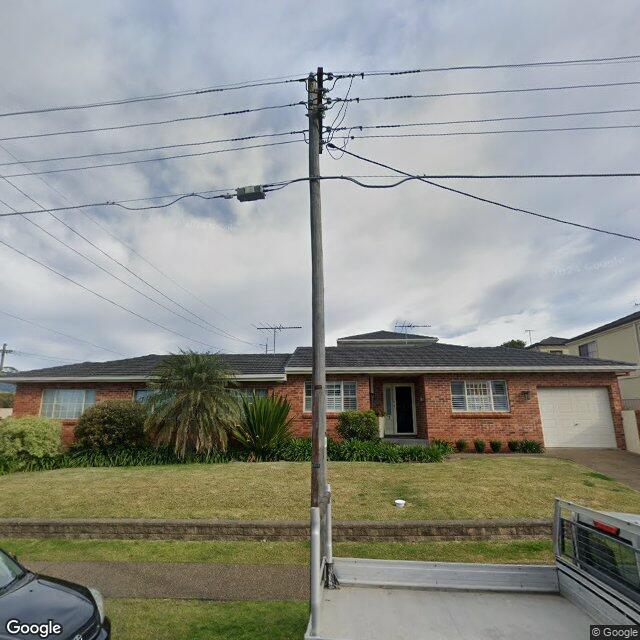crossarm: (316, 66, 324, 154), (0, 349, 15, 354)
timber-pole: (309, 71, 326, 507), (0, 343, 8, 370)
